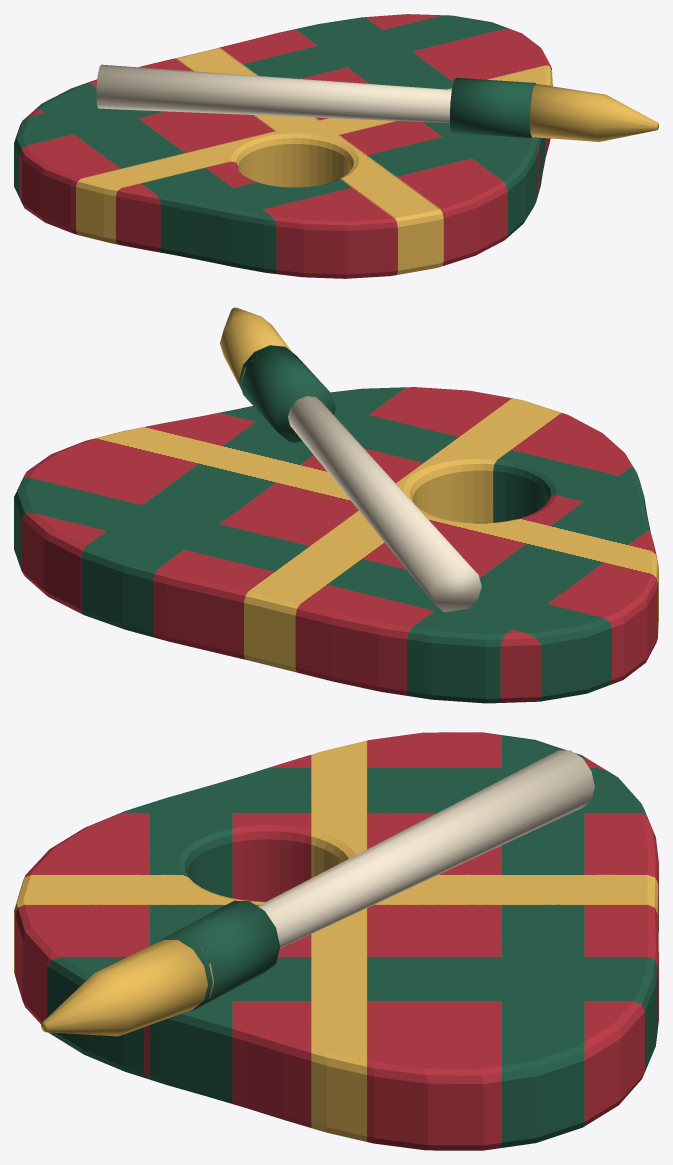
File: ACC_TH_ART_STUDIO_Primary.fbx
3 views of the same model, one above another, from view 1: azimuth 30°, elevation 25°; view 2: azimuth 150°, elevation 25°; view 3: azimuth 270°, elevation 25° (orthographic). The views are drawn at different scales.
Parts seen in each view (by area): view 1: ACC_TH_ART_STUDIO_Primary; view 2: ACC_TH_ART_STUDIO_Primary; view 3: ACC_TH_ART_STUDIO_Primary.
Boxes of the visible parts, <box> form: ACC_TH_ART_STUDIO_Primary: <box>14,14,658,278</box>; ACC_TH_ART_STUDIO_Primary: <box>14,307,658,703</box>; ACC_TH_ART_STUDIO_Primary: <box>14,732,658,1150</box>.
Size of the model in its own units: 91.82 by 18.4 by 72.3.
